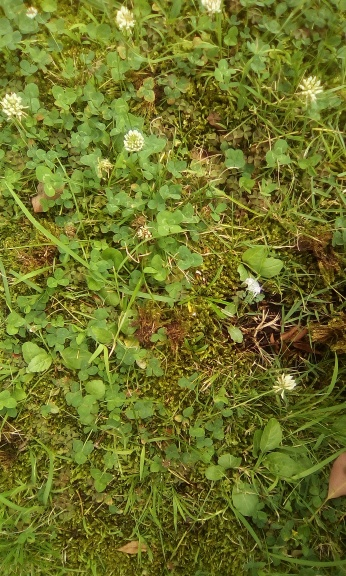4leaf: (155, 209, 184, 236)
